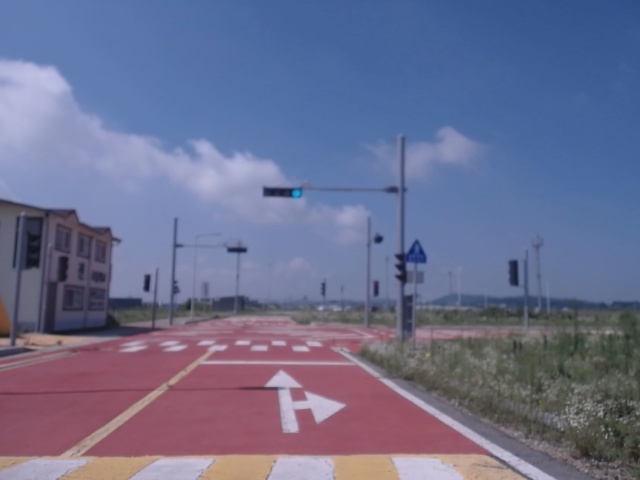straight_green_4: (262, 187, 303, 198)
